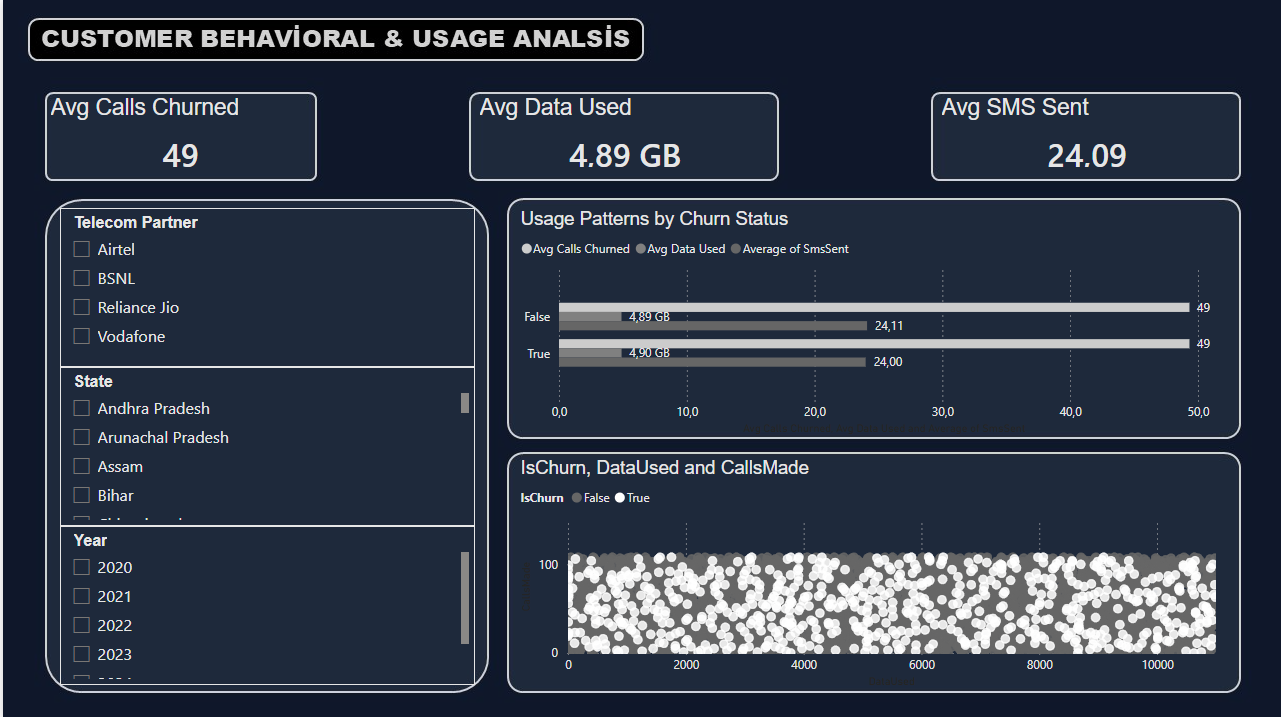

This screenshot's page, from the dashboard's own definition file:
{"tool":"powerbi","page":{"name":"Customer Analsis","canvas":[1280,720],"ordinal":1},"visuals":[{"type":"cardVisual","title":"Avg Calls Churned","fields":{"Data":["Measure.Avg Calls Churned"]},"box":[43.2,93.7,269.3,90.1],"z":0},{"type":"slicer","fields":{"Values":["dim_partner.TelecomPartner"]},"box":[56.7,208.1,414.9,159.1],"z":0,"group":"g1"},{"type":"cardVisual","title":"Avg Data Used","fields":{"Data":["Measure.Avg Data Used"]},"box":[472,93.7,300.9,90.1],"z":1000},{"type":"slicer","fields":{"Values":["dim_location.State"]},"box":[56.7,367.2,414.9,159.1],"z":1000,"group":"g1"},{"type":"cardVisual","title":"Avg SMS Sent","fields":{"Data":["Avg(fact_churn.SmsSent)"]},"box":[934.1,93.7,300.9,90.1],"z":2000},{"type":"slicer","fields":{"Values":["dim_date.Year"]},"box":[56.7,526.4,414.9,159.1],"z":2000,"group":"g1"},{"type":"group","id":"g1","title":"Group 1","box":[56.7,208.1,415.3,477.4],"z":3000},{"type":"clusteredBarChart","title":"Usage Patterns by Churn Status","fields":{"Category":["fact_churn.IsChurn"],"Y":["Measure.Avg Calls Churned","Measure.Avg Data Used","Avg(fact_churn.SmsSent)"]},"box":[512.5,208.1,711.6,230.6],"z":4000},{"type":"scatterChart","fields":{"X":["fact_churn.DataUsed"],"Y":["fact_churn.CallsMade"],"Series":["fact_churn.IsChurn"]},"box":[512.5,456.7,722.4,235.1],"z":4001}]}

Visuals, with their boxes in screenshot pixels (x1, y1, x2, y2), scaled from the page's 1280x720 canvas onto the 1281x717 screenshot:
"Avg Calls Churned" cardVisual: <region>43, 93, 313, 183</region>
slicer - dim_partner.TelecomPartner: <region>57, 207, 472, 366</region>
"Avg Data Used" cardVisual: <region>472, 93, 774, 183</region>
slicer - dim_location.State: <region>57, 366, 472, 524</region>
"Avg SMS Sent" cardVisual: <region>935, 93, 1236, 183</region>
slicer - dim_date.Year: <region>57, 524, 472, 683</region>
"Group 1" group: <region>57, 207, 472, 683</region>
"Usage Patterns by Churn Status" clusteredBarChart: <region>513, 207, 1225, 437</region>
scatterChart - fact_churn.DataUsed x fact_churn.CallsMade: <region>513, 455, 1236, 689</region>
